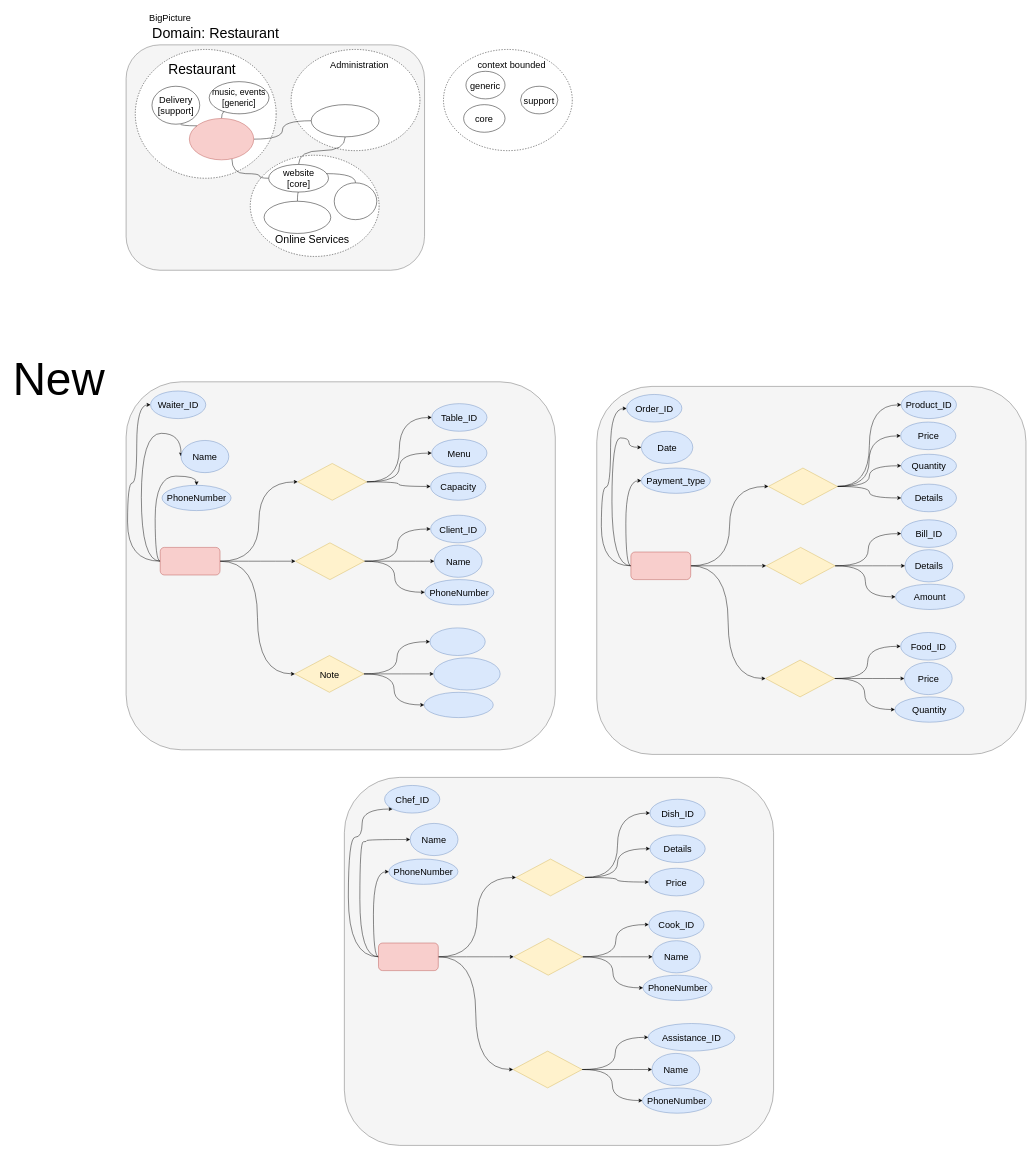
This 1034x1153 diagram has some shape labels left out. Here are the shapes that lost their labels. From the top down, the box of each, then its label:
(189, 118, 254, 160): Restaurant [core]
(311, 104, 379, 137): Administration [core]
(264, 201, 331, 233): Advertisement [support]
(334, 182, 377, 220): Social Media [generic]
(297, 463, 367, 500): Table
(768, 468, 837, 505): Product
(160, 547, 220, 575): Waiter
(295, 542, 364, 580): Client
(630, 552, 691, 580): Order
(766, 547, 835, 584): B i ll
(430, 627, 485, 656): Note_ID
(433, 657, 500, 690): Clarifications
(765, 660, 835, 697): Food
(424, 692, 493, 718): Products
(516, 859, 585, 896): Dish
(378, 943, 438, 971): Chef
(513, 938, 583, 975): Cook
(513, 1051, 582, 1088): Assistance
